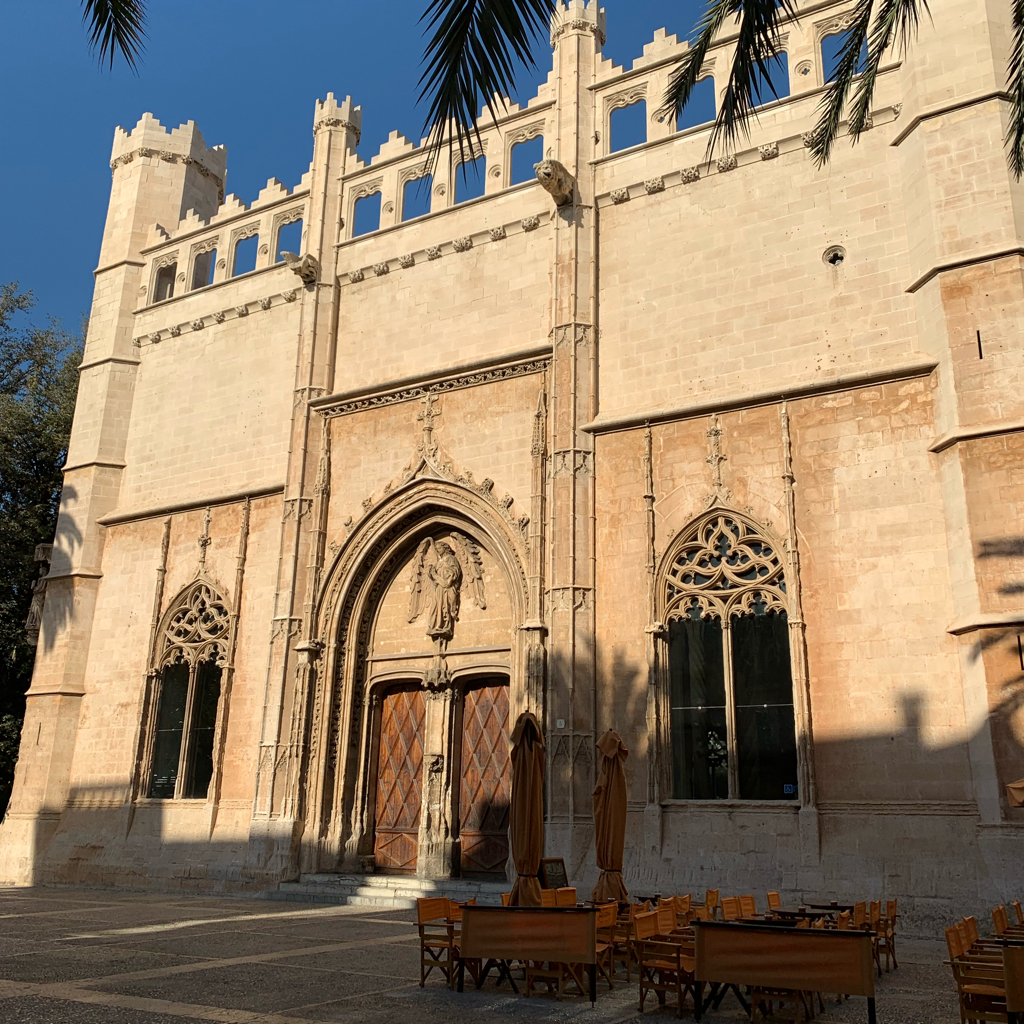arco-apuntado: (321, 487, 521, 636), (648, 498, 793, 583), (152, 570, 235, 636)
arco-conopial: (374, 452, 481, 507)
